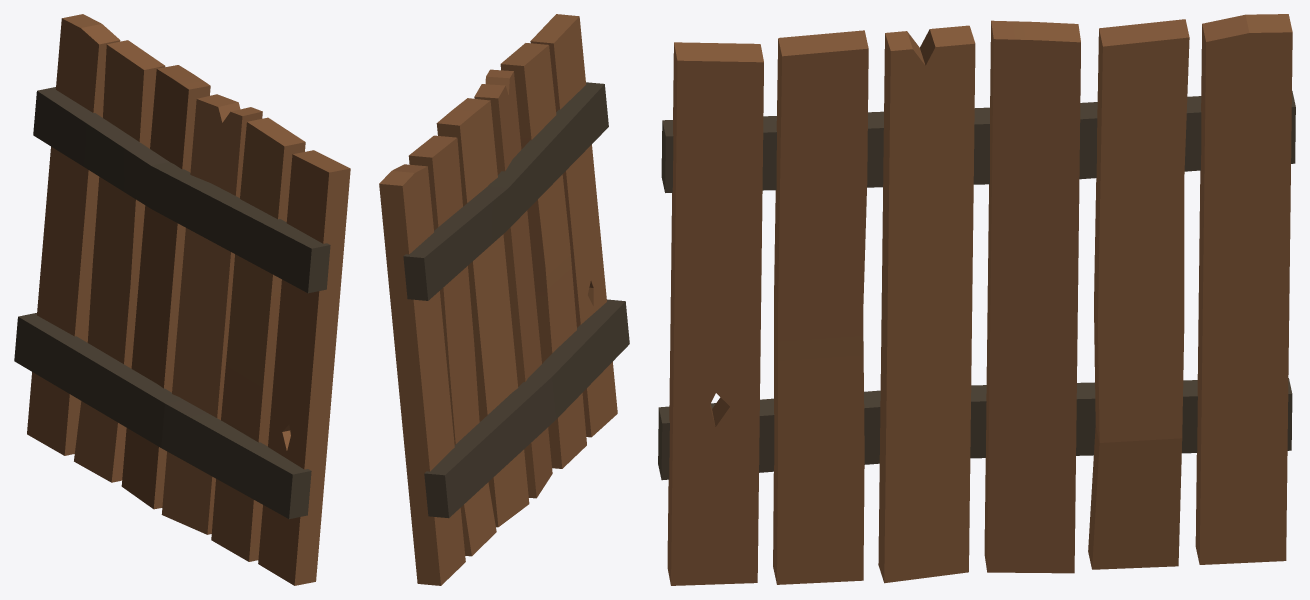
Rendered from Fence_Breakable_A (3).fbx.
3 renders of one model, left to right at view 1: azimuth 30°, elevation 25°; view 2: azimuth 150°, elevation 25°; view 3: azimuth 270°, elevation 25°, orthographic. The views are drawn at different scales.
Visible parts, largest first — view 1: Fence_Breakable_A (3); view 2: Fence_Breakable_A (3); view 3: Fence_Breakable_A (3).
Part boxes in pixels (left/top/right/bottom): Fence_Breakable_A (3): left=14, top=14, right=350, bottom=585; Fence_Breakable_A (3): left=379, top=14, right=629, bottom=585; Fence_Breakable_A (3): left=658, top=14, right=1295, bottom=585.
Size of the model in its own units: 1.27 by 4.41 by 4.53.
